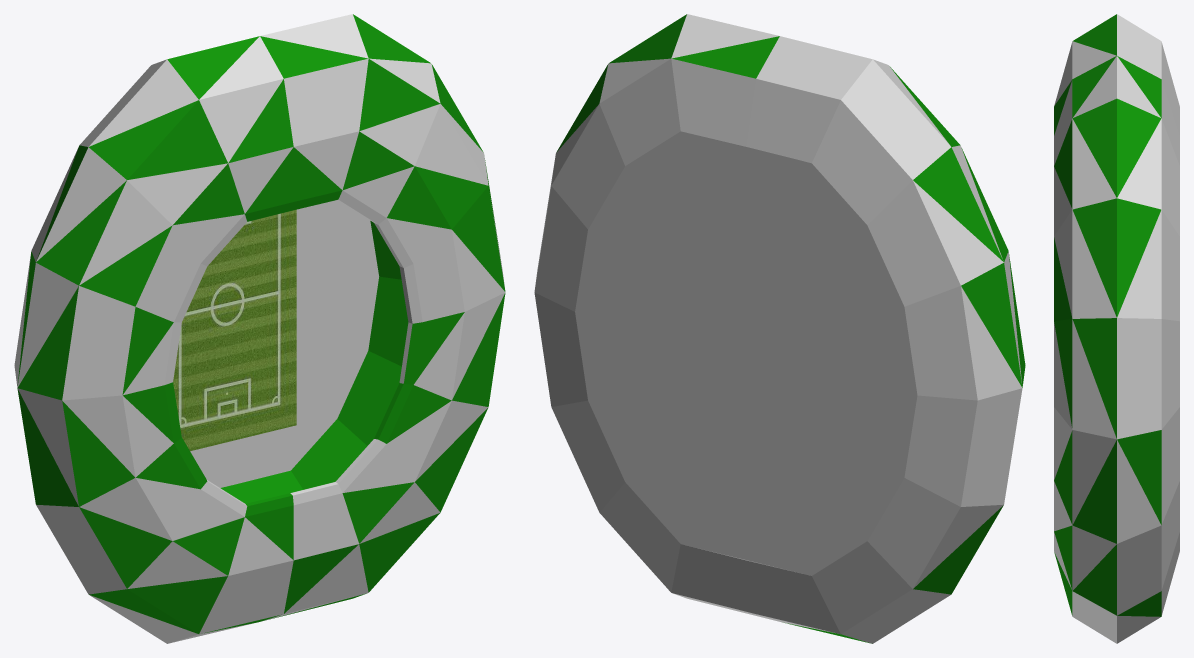
3 views of the same model, side by side, from view 1: azimuth 30°, elevation 25°; view 2: azimuth 150°, elevation 25°; view 3: azimuth 270°, elevation 25° (orthographic). The views are drawn at different scales.
Visible parts, largest first — view 1: Torus.002, Torus.001; view 2: Torus.002; view 3: Torus.002.
Boxes of the visible parts, left/top/right/bottom form: Torus.002: left=14, top=14, right=505, bottom=643; Torus.001: left=173, top=209, right=296, bottom=451; Torus.002: left=534, top=14, right=1025, bottom=643; Torus.002: left=1054, top=14, right=1179, bottom=643.
Size of the model in its own units: 12.24 by 14.12 by 2.95.
Materials: 3 (1 with a texture image).
